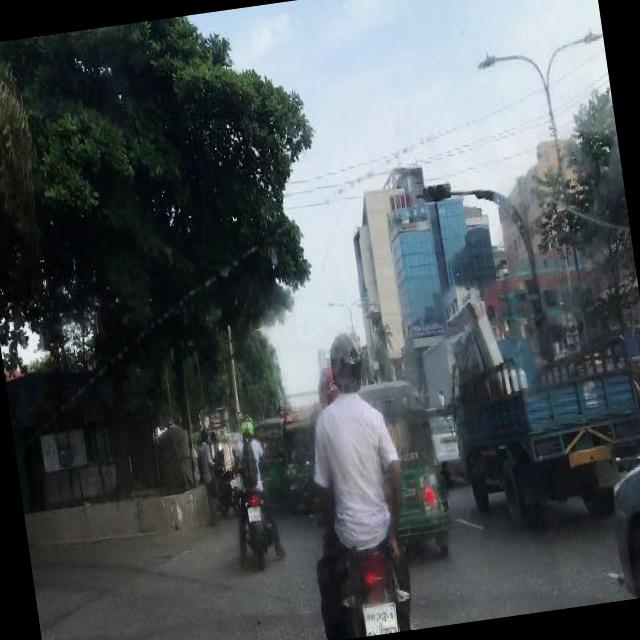motorcycle: (373, 373, 455, 562), (333, 528, 415, 638), (276, 404, 325, 516), (254, 409, 293, 519), (234, 484, 278, 574), (212, 462, 242, 520)
truck: (444, 332, 640, 504)
